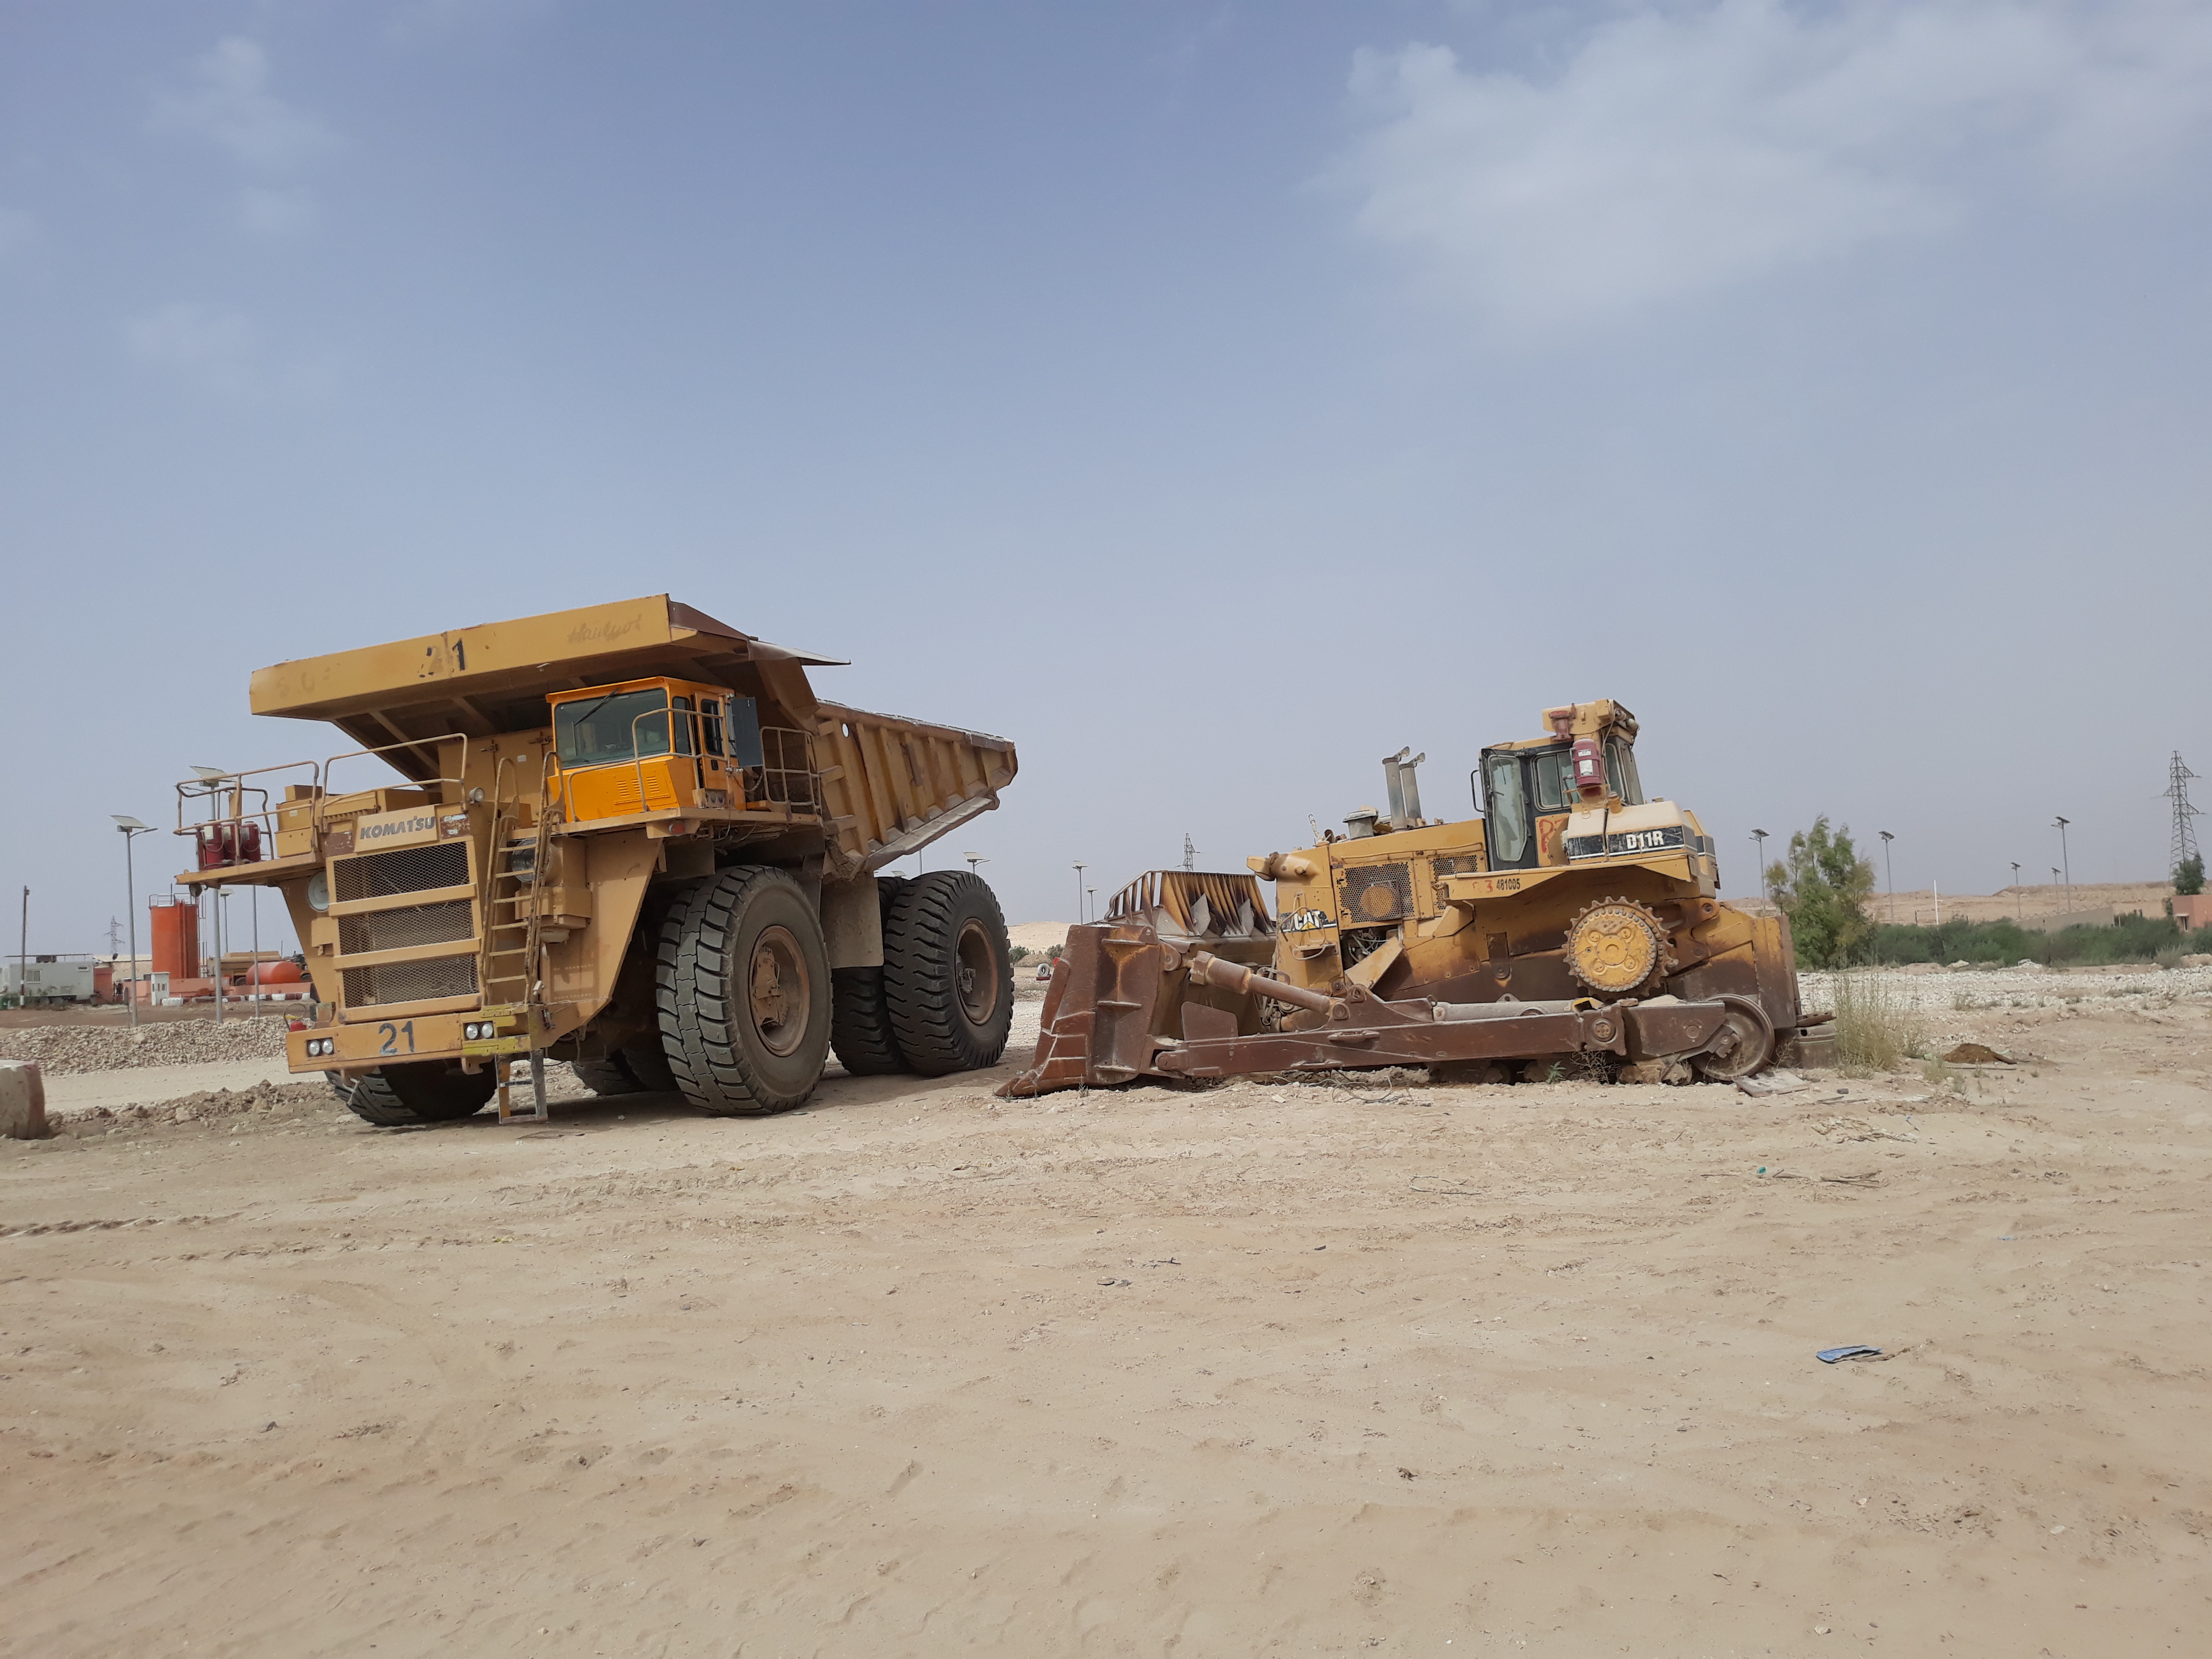bulldozer: (993, 688, 1827, 1133)
camion: (244, 586, 1019, 1152)
